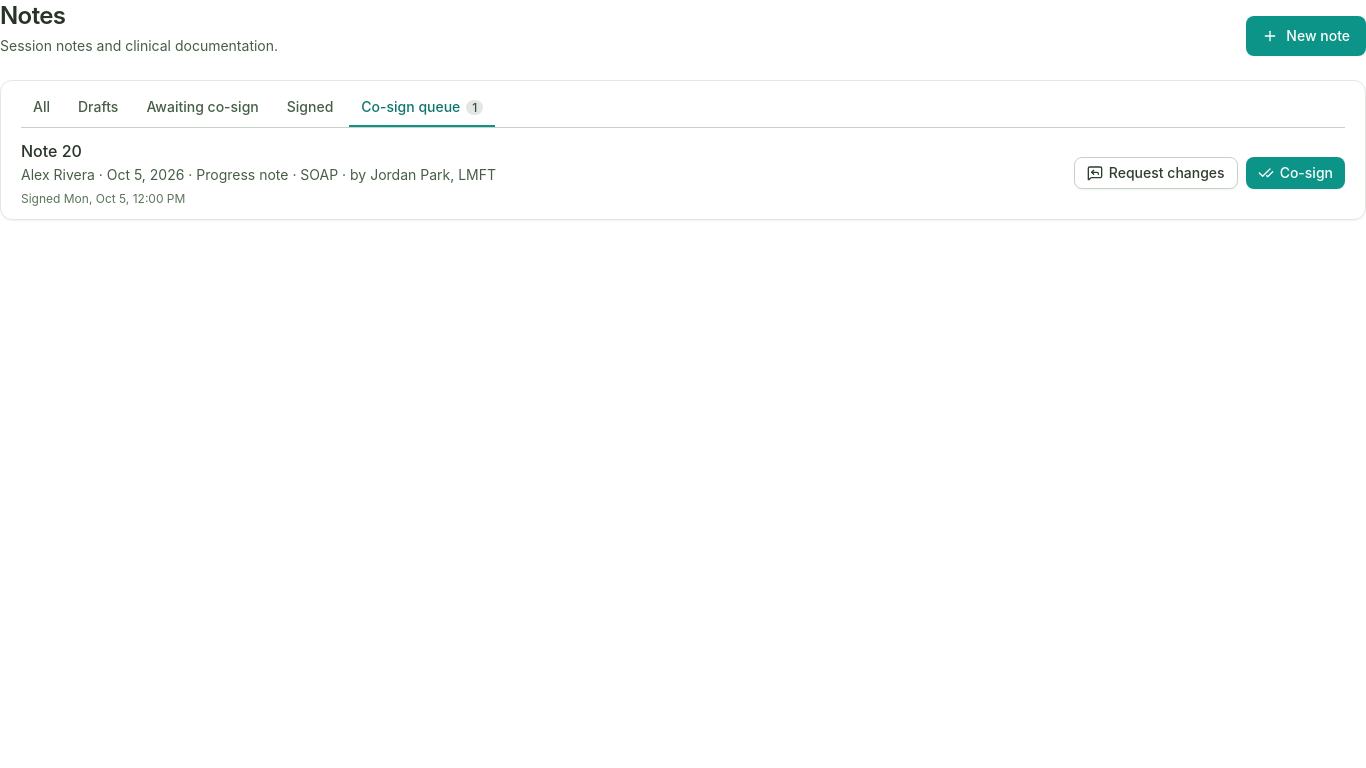
co-sign queue › sends a note back to its author with a comment
Click the button with aria-label "Request changes to Jordan Park, LMFT's note for Alex Rivera" at (1156, 173), box [1074,157,1238,189]
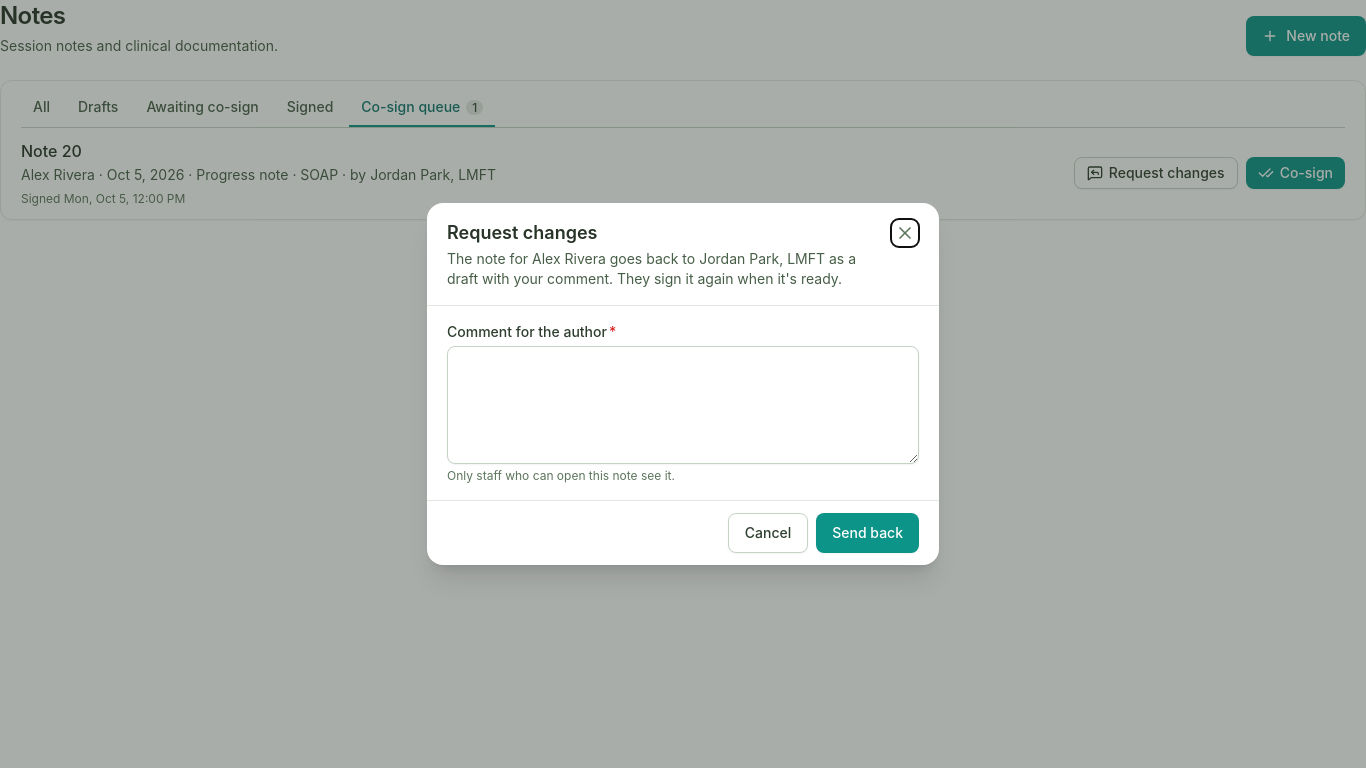
Type "Add the plan." into the text box labelled "Comment for the author*" at (683, 405), box [447,346,919,464]
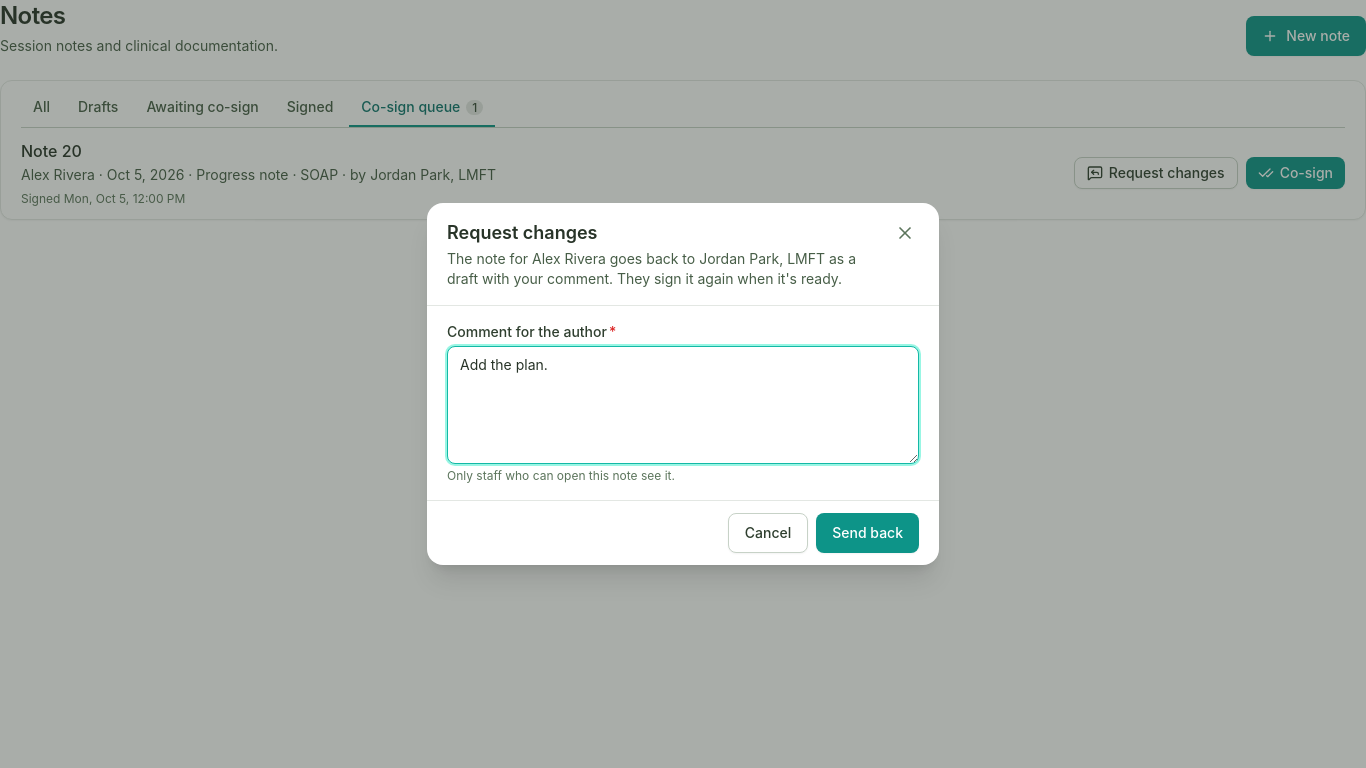
Click the button "Send back" at (868, 533), box [816,513,919,553]
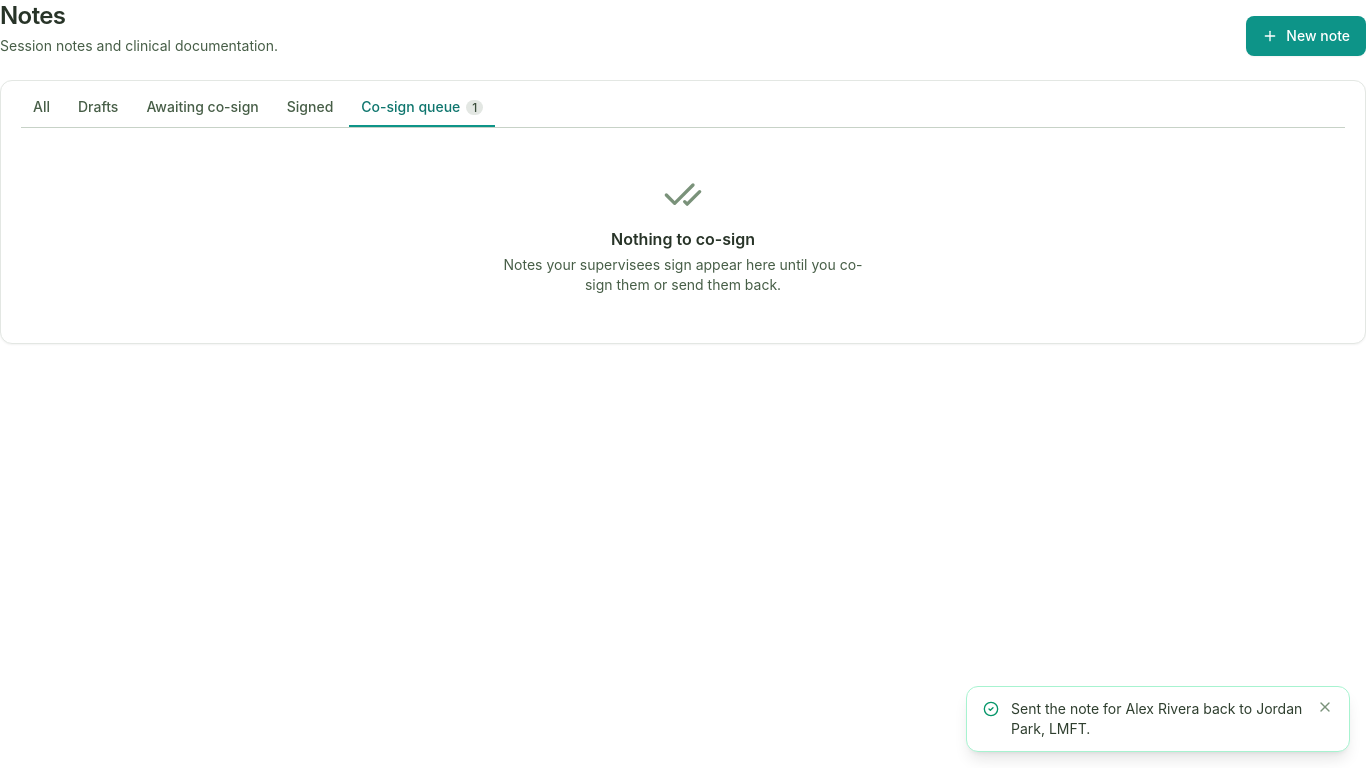
Now the text "Sent the note for Alex Rivera back to Jordan Park, LMFT." is shown, box [1011,699,1305,739]
